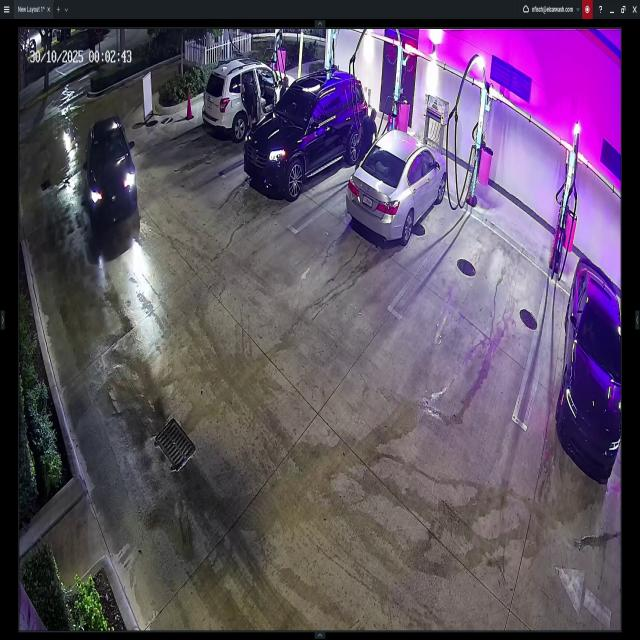Car: (243, 67, 368, 200), (557, 255, 618, 468), (346, 129, 448, 244), (203, 61, 295, 141), (84, 119, 136, 219)
